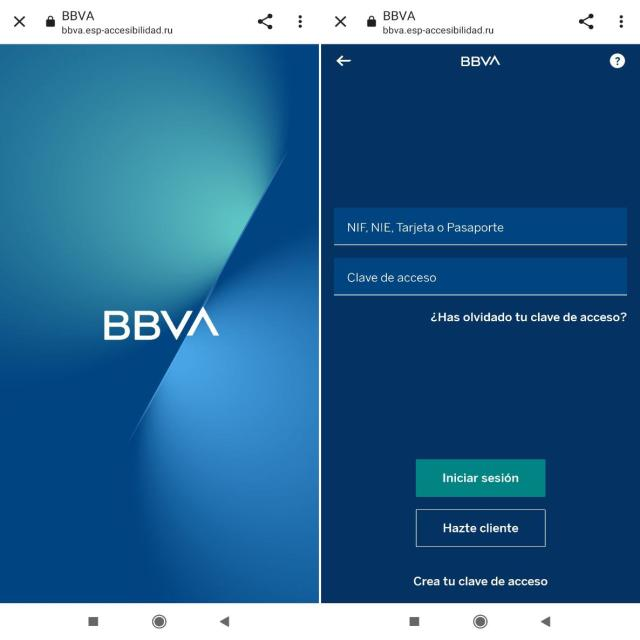BBVA: (103, 307, 219, 341)
